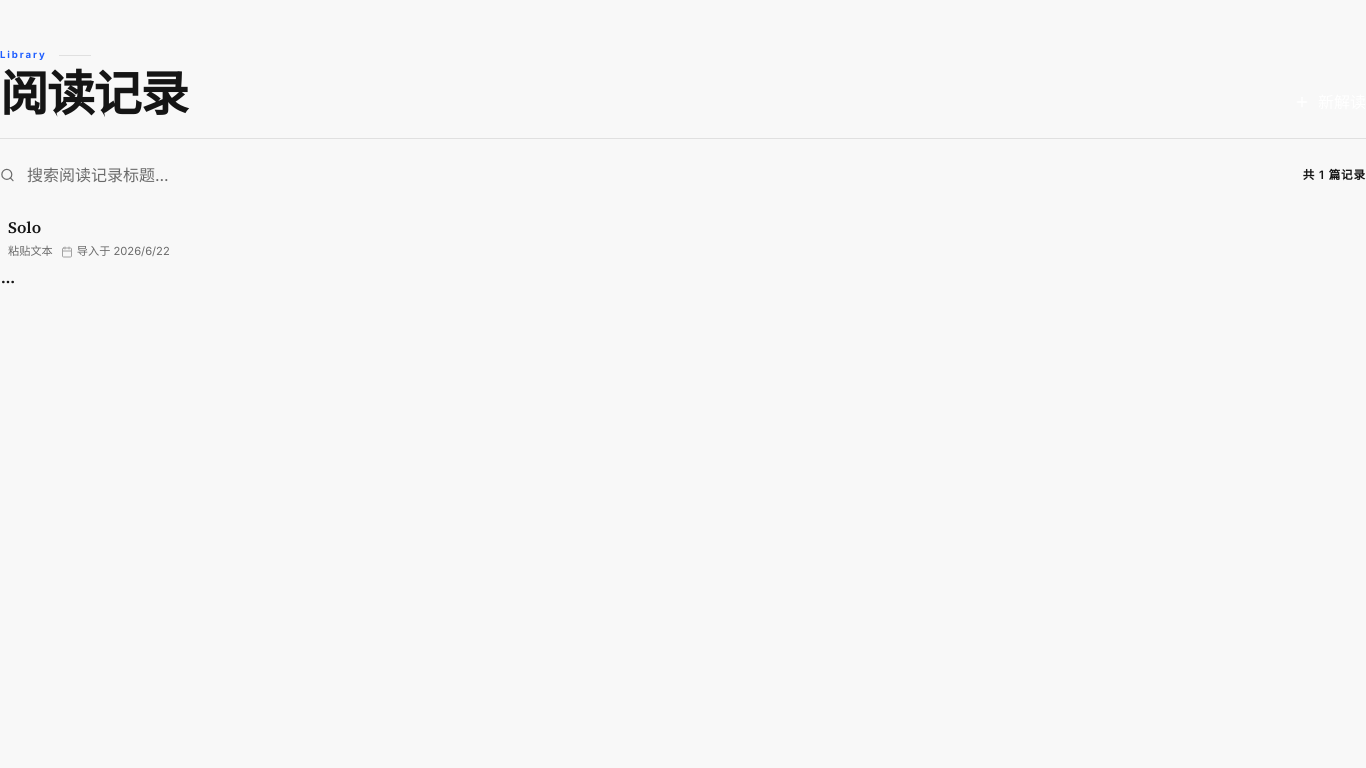
Scenario: LibraryClient delete lifecycle › shows the empty state after deleting the last record
The width and height of the screenshot is (1366, 768).
What coordinates should you click on to do the following:
click the button named "打开“Solo”的操作菜单"
I would click on:
 (8, 282)
Its box is [0,274,16,290].
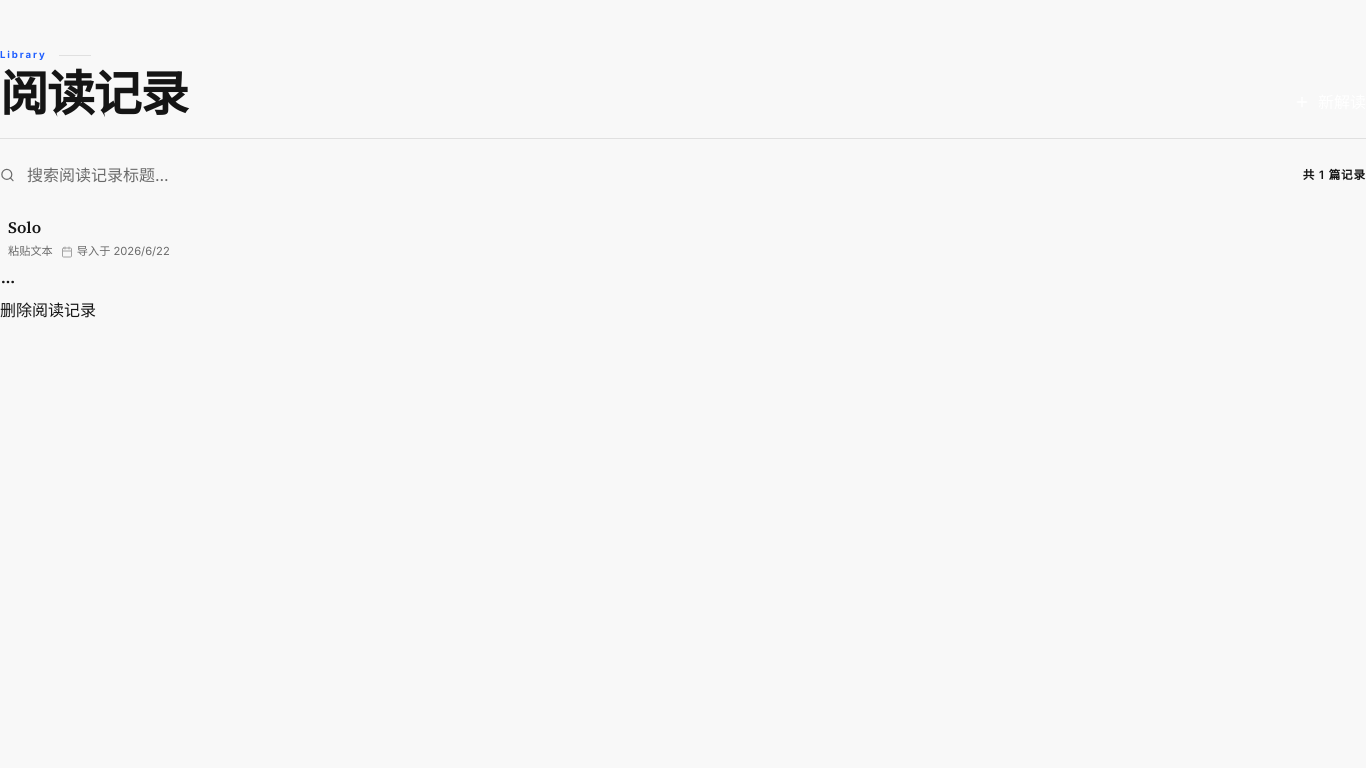
Expected: the menu is shown
What coordinates should you click on to do the following:
click the menu item "删除阅读记录"
I would click on:
 (48, 310)
Its box is [0,298,96,322].
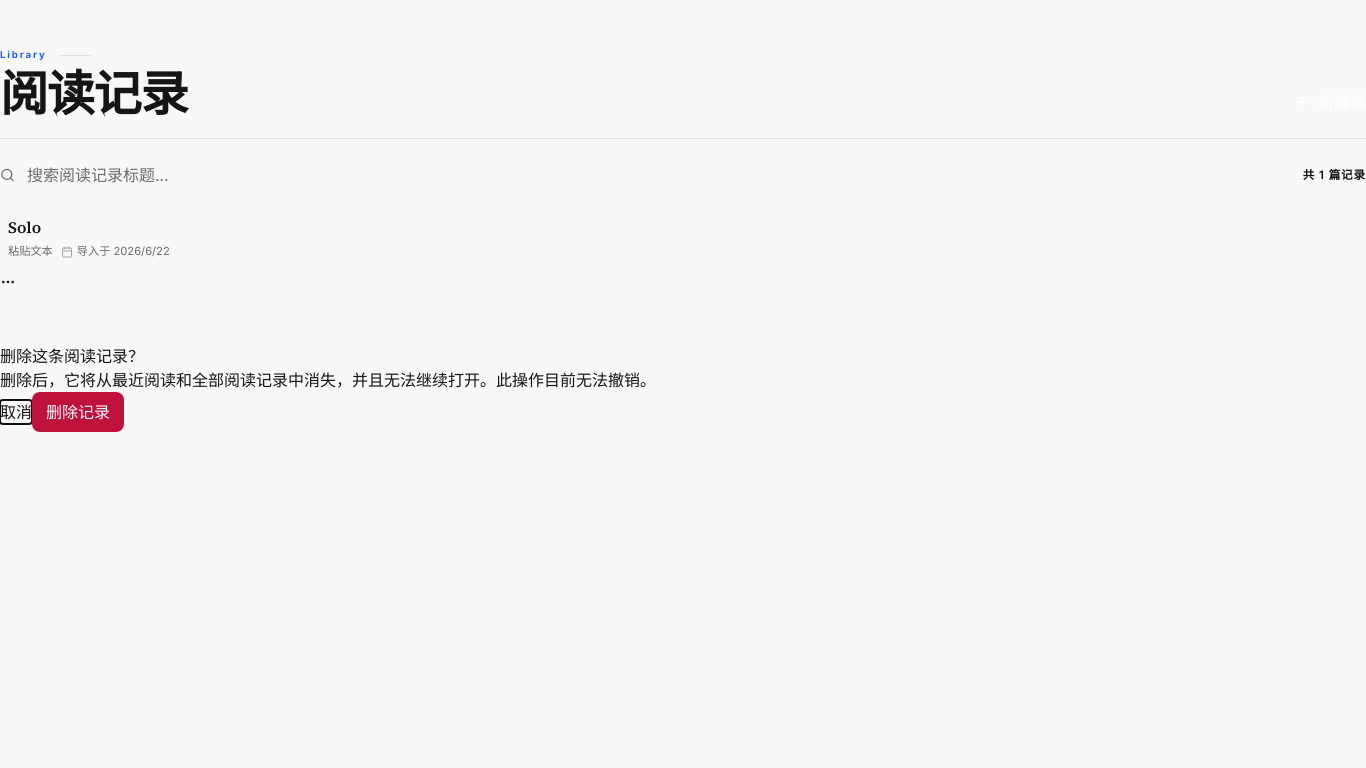
Expected: the dialog is shown, [0,346,656,432]
What coordinates should you click on to do the following:
click the button "删除记录"
I would click on:
 (78, 412)
Its box is [32,392,124,432].
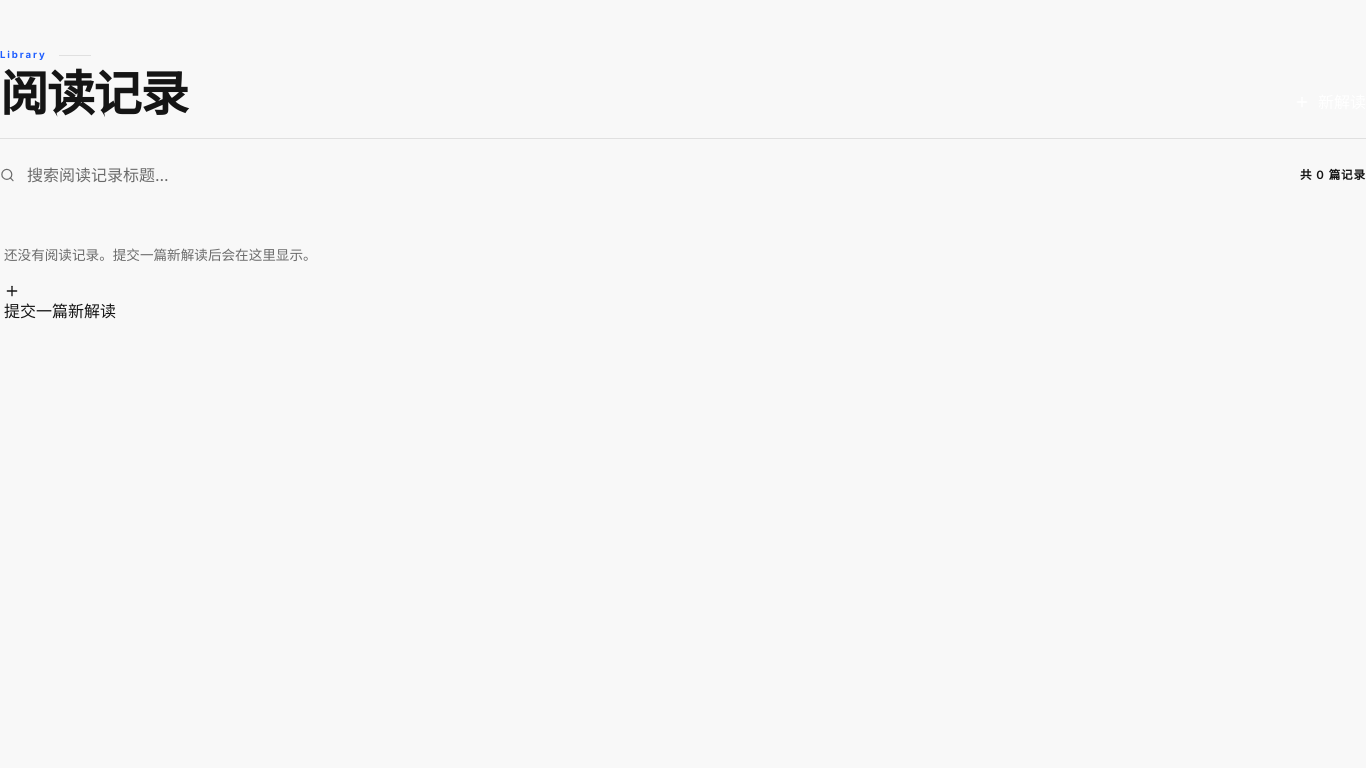
Expected: the text "还没有阅读记录。提交一篇新解读后会在这里显示。" is shown, [4,247,317,263]
